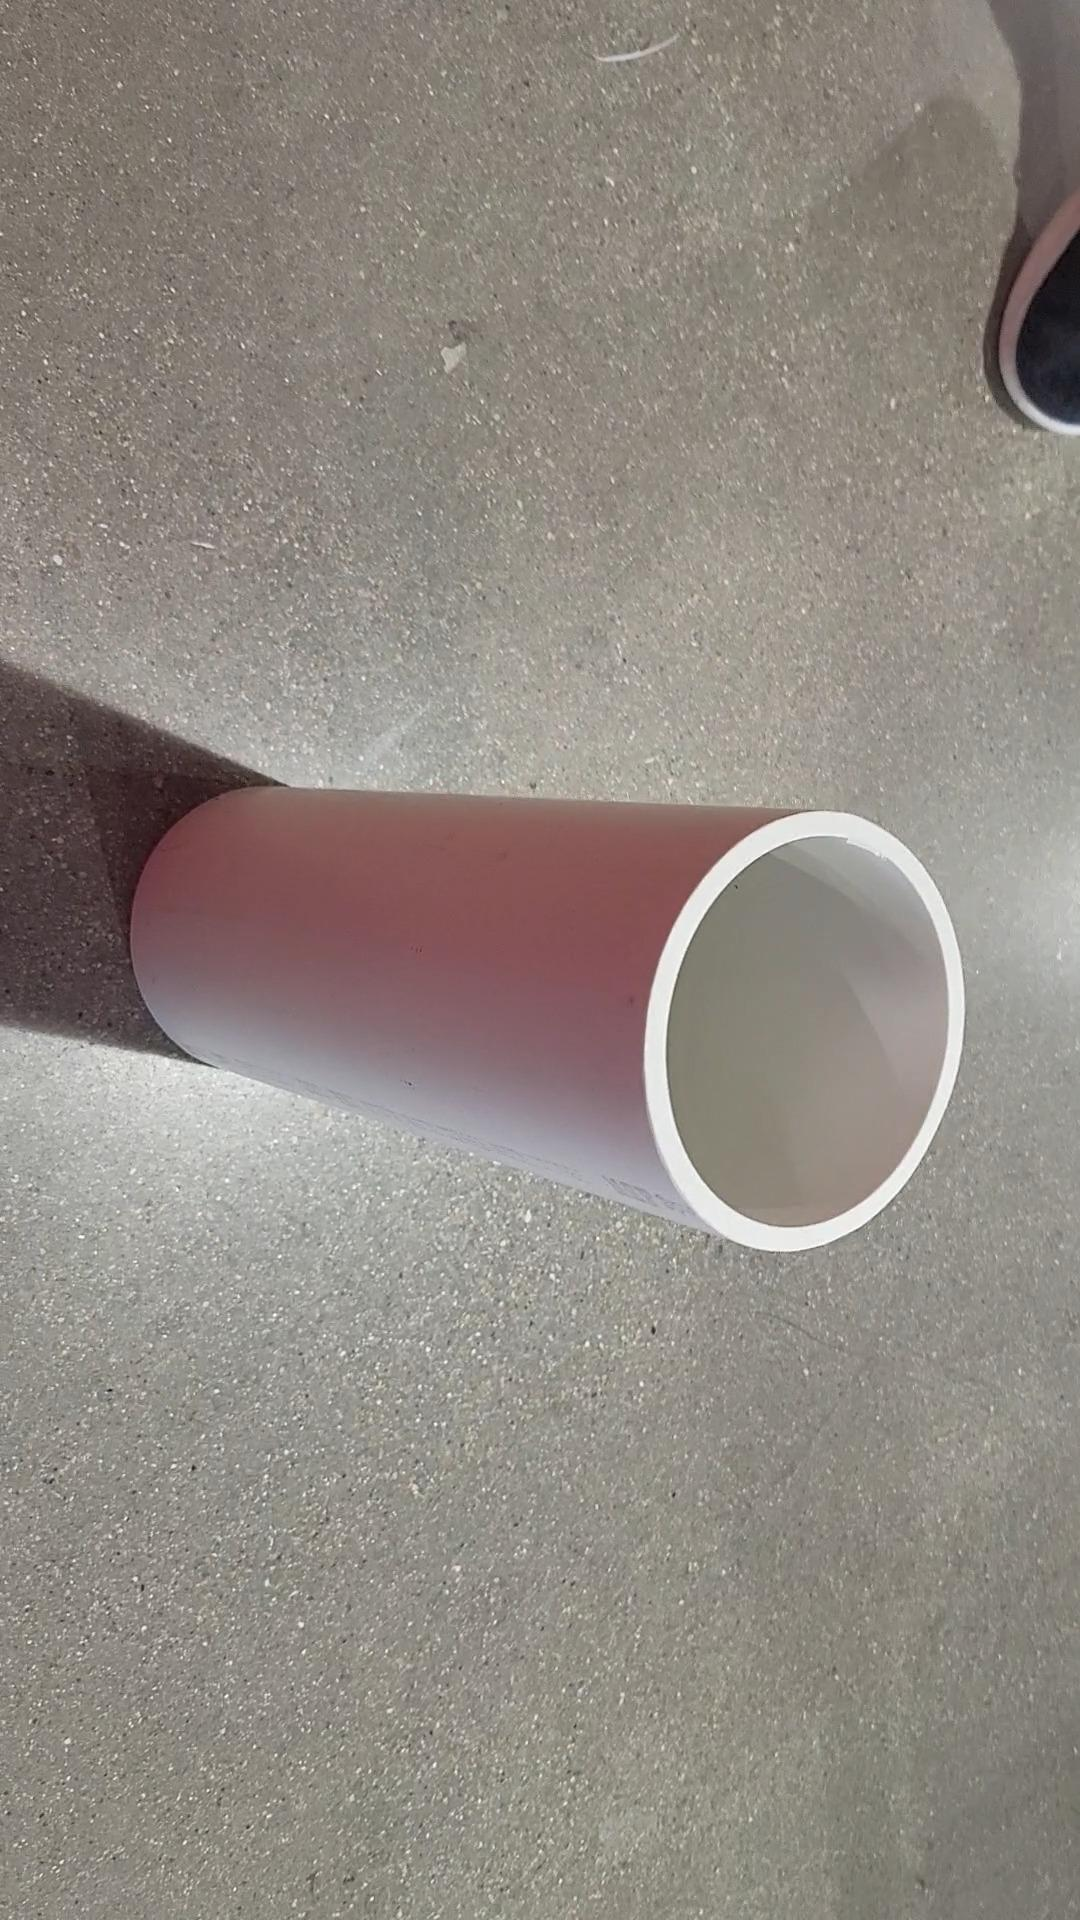coral: (132, 785, 962, 1250)
